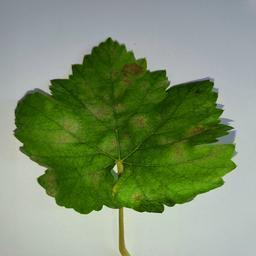Powdery-Mildew: (49, 115, 82, 149), (97, 130, 132, 159), (116, 178, 152, 204), (200, 148, 227, 181), (88, 101, 117, 123), (118, 64, 142, 85), (45, 171, 64, 192), (171, 141, 188, 161), (192, 118, 209, 135), (135, 117, 151, 133)
